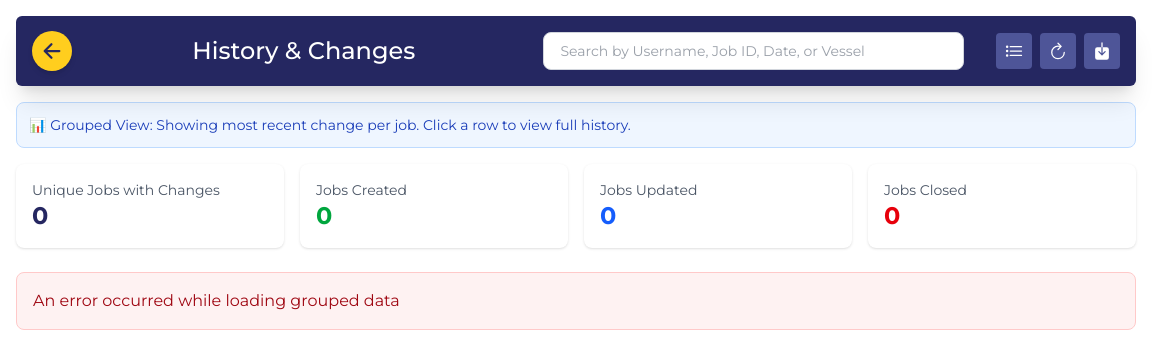
Test: ViewHistory Integration Tests › clears search when clear button is clicked
In the field with placeholder "Search by Username, Job ID, Date, or Vessel": {"x": 754, "y": 51} [544, 32, 964, 70], type "123"
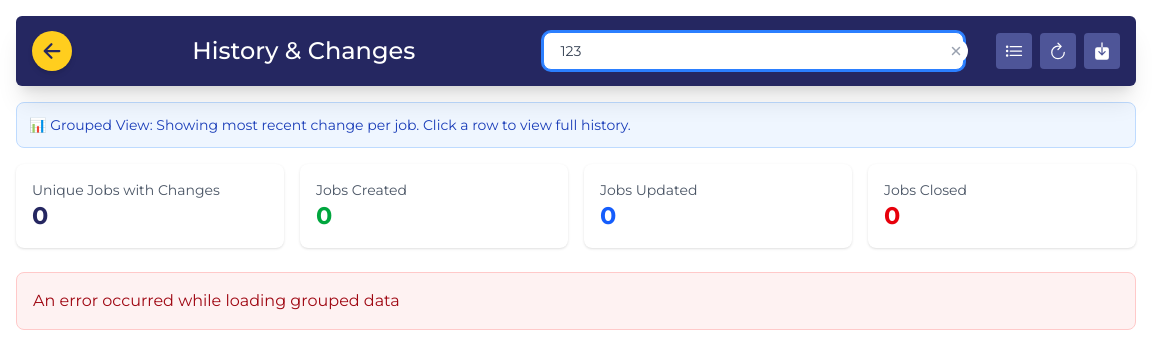
expect the button with test id "clearButton" is shown: met
# Click clear button
Click the button with test id "clearButton": {"x": 956, "y": 51} [944, 39, 968, 63]
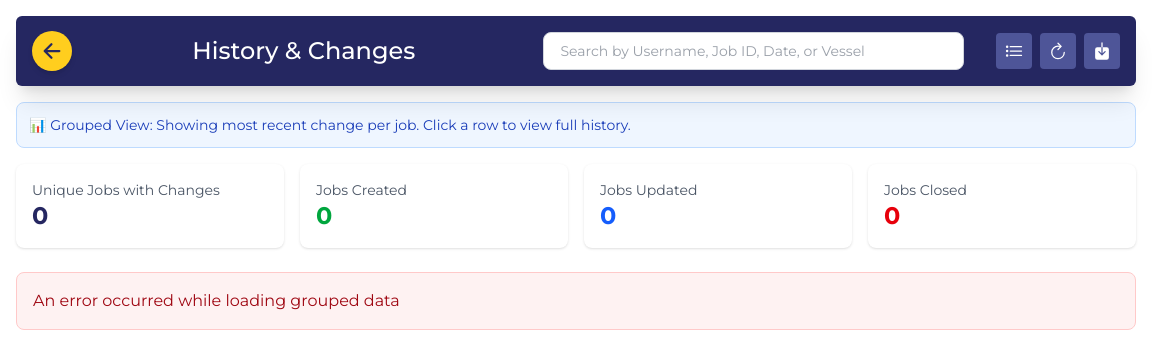
expect the field with placeholder "Search by Username, Job ID, Date, or Vessel" is empty: met, box [544, 32, 964, 70]
